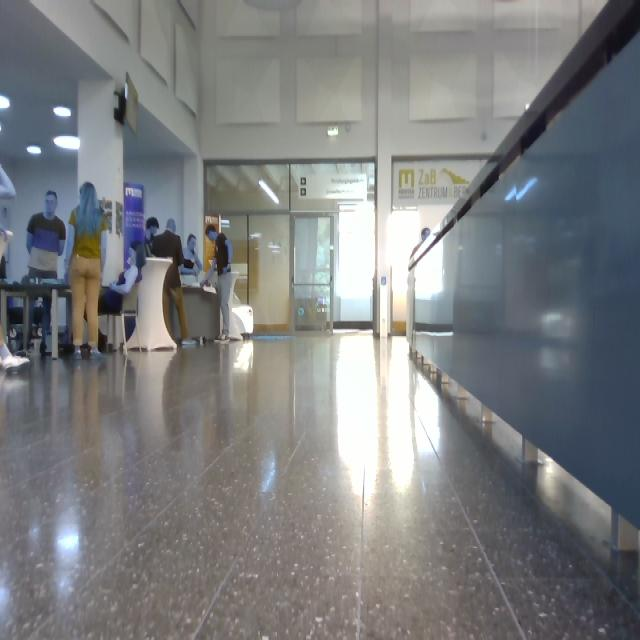chair: (101, 284, 147, 352)
desk: (169, 286, 220, 344)
door: (249, 216, 289, 334), (221, 216, 248, 308)
light bulb: (261, 180, 279, 205), (54, 136, 80, 150), (59, 532, 79, 549), (54, 106, 71, 117), (27, 146, 42, 156), (1, 94, 10, 110), (329, 126, 338, 137)
person: (68, 182, 107, 353), (150, 229, 194, 346), (202, 225, 232, 341), (28, 192, 66, 280), (100, 241, 146, 313), (1, 289, 29, 372), (1, 165, 16, 285), (183, 234, 202, 277), (412, 228, 431, 257), (146, 218, 159, 245)
pillar: (79, 82, 124, 284)
staircase: (407, 1, 640, 556)
table: (124, 257, 177, 350)
tiled floor: (1, 336, 640, 640)
